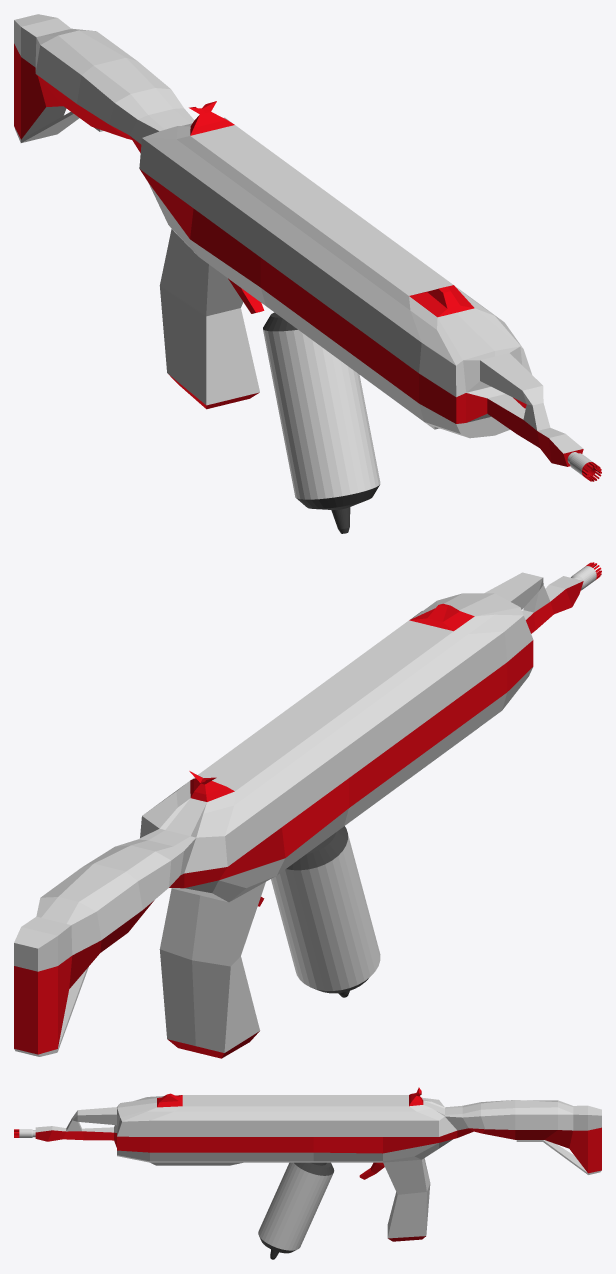
Rendered from ak_laser.fbx.
The picture shows the model from 3 angles, top to bottom: view 1: azimuth 30°, elevation 25°; view 2: azimuth 150°, elevation 25°; view 3: azimuth 270°, elevation 25°; orthographic projection. The views are drawn at different scales.
Parts seen in each view (by area): view 1: Cube; view 2: Cube; view 3: Cube.
Part boxes in pixels (left/top/right/bottom): Cube: left=14, top=14, right=601, bottom=533; Cube: left=14, top=562, right=601, bottom=1058; Cube: left=14, top=1087, right=601, bottom=1259.
Bounding box in the file's own units: 322 × 1052 × 3325.
